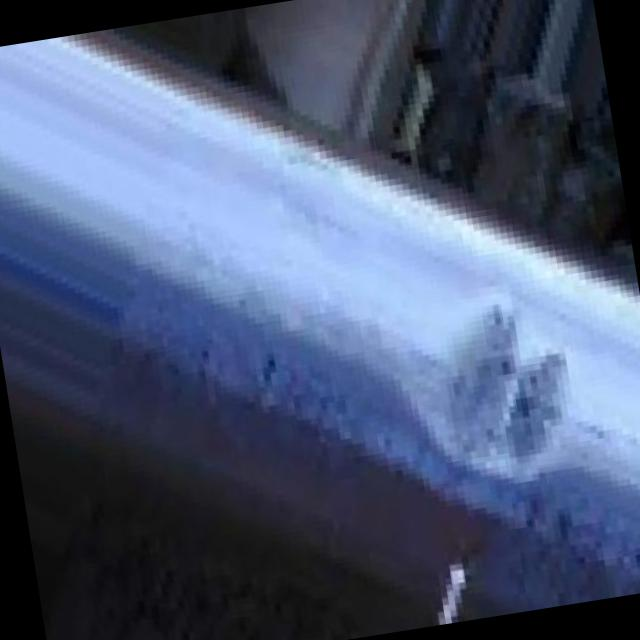defective: (366, 208, 640, 627)
non-defective: (0, 0, 640, 640)
